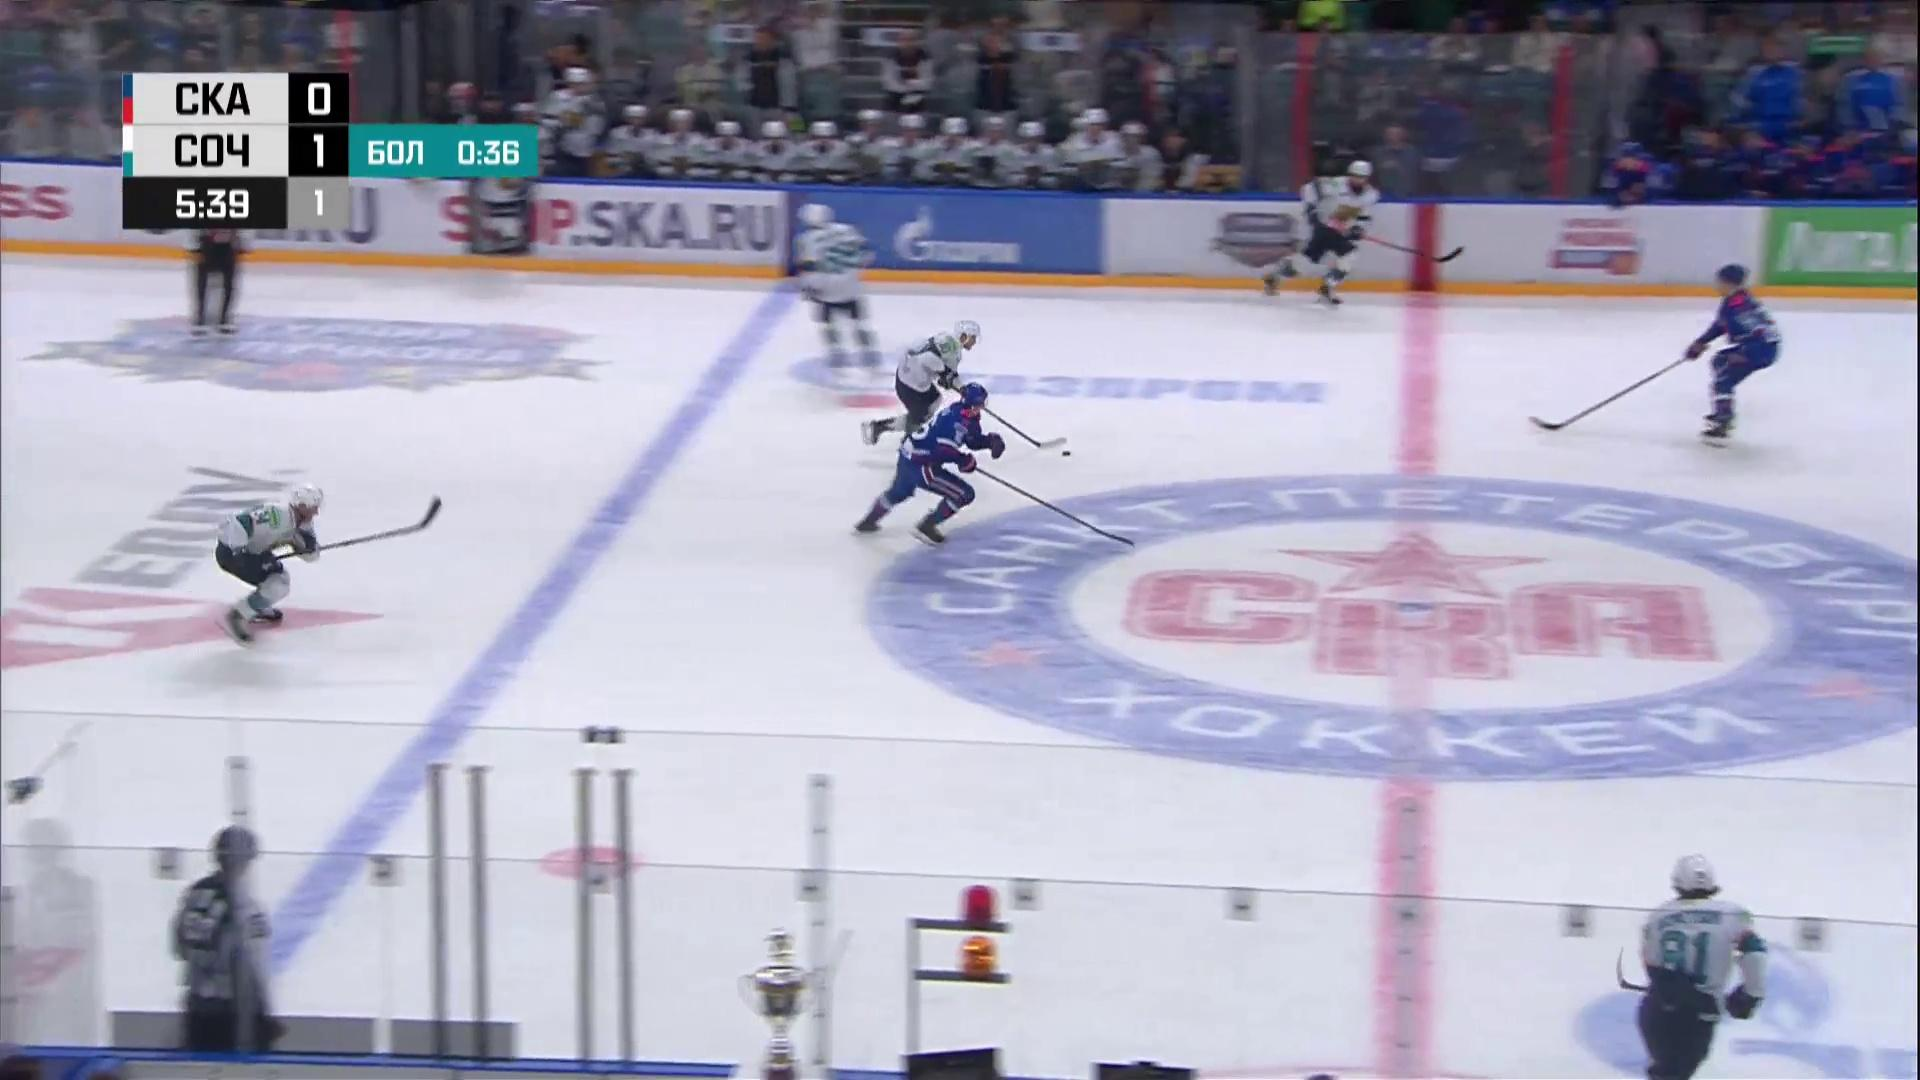ball: (1062, 451, 1071, 456)
